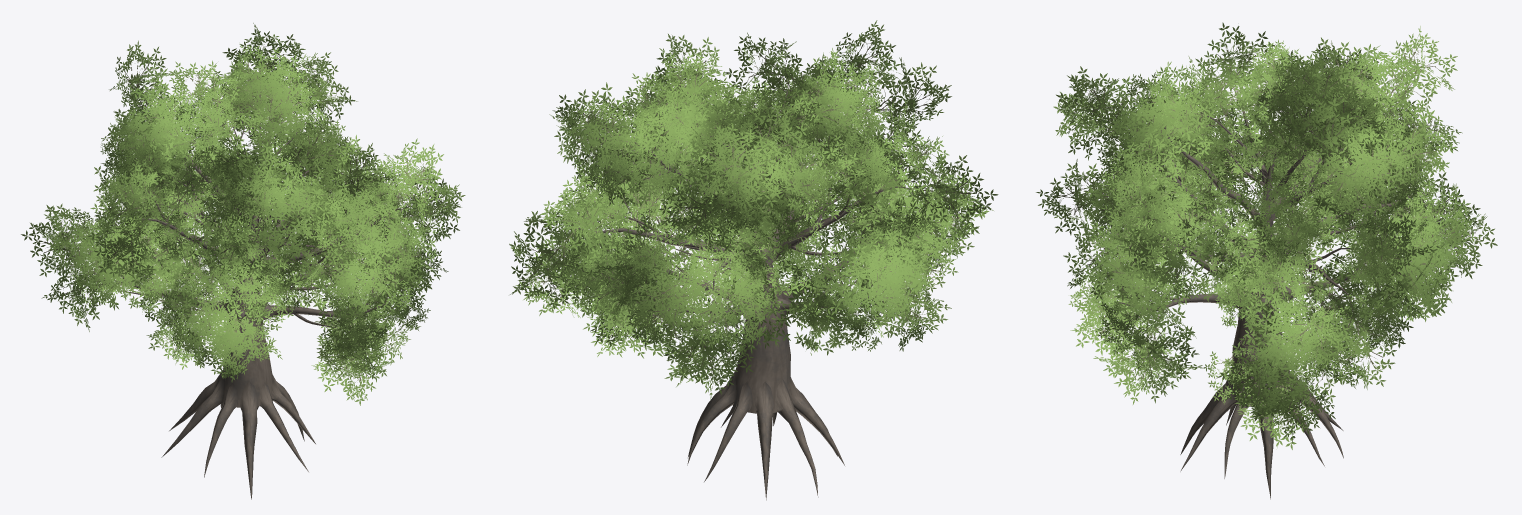
The model's file is tree_Oak_LOD0.fbx.
3 renders of one model, left to right at view 1: azimuth 30°, elevation 25°; view 2: azimuth 150°, elevation 25°; view 3: azimuth 270°, elevation 25°, orthographic. The views are drawn at different scales.
Parts seen in each view (by area): view 1: Oak_LOD0; view 2: Oak_LOD0; view 3: Oak_LOD0.
Boxes of the visible parts, x1=… form: Oak_LOD0: x1=21, y1=23, x2=465, y2=499; Oak_LOD0: x1=509, y1=20, x2=998, y2=500; Oak_LOD0: x1=1036, y1=22, x2=1497, y2=499.
Bounding box in the file's own units: 1951 × 1898 × 1855.
